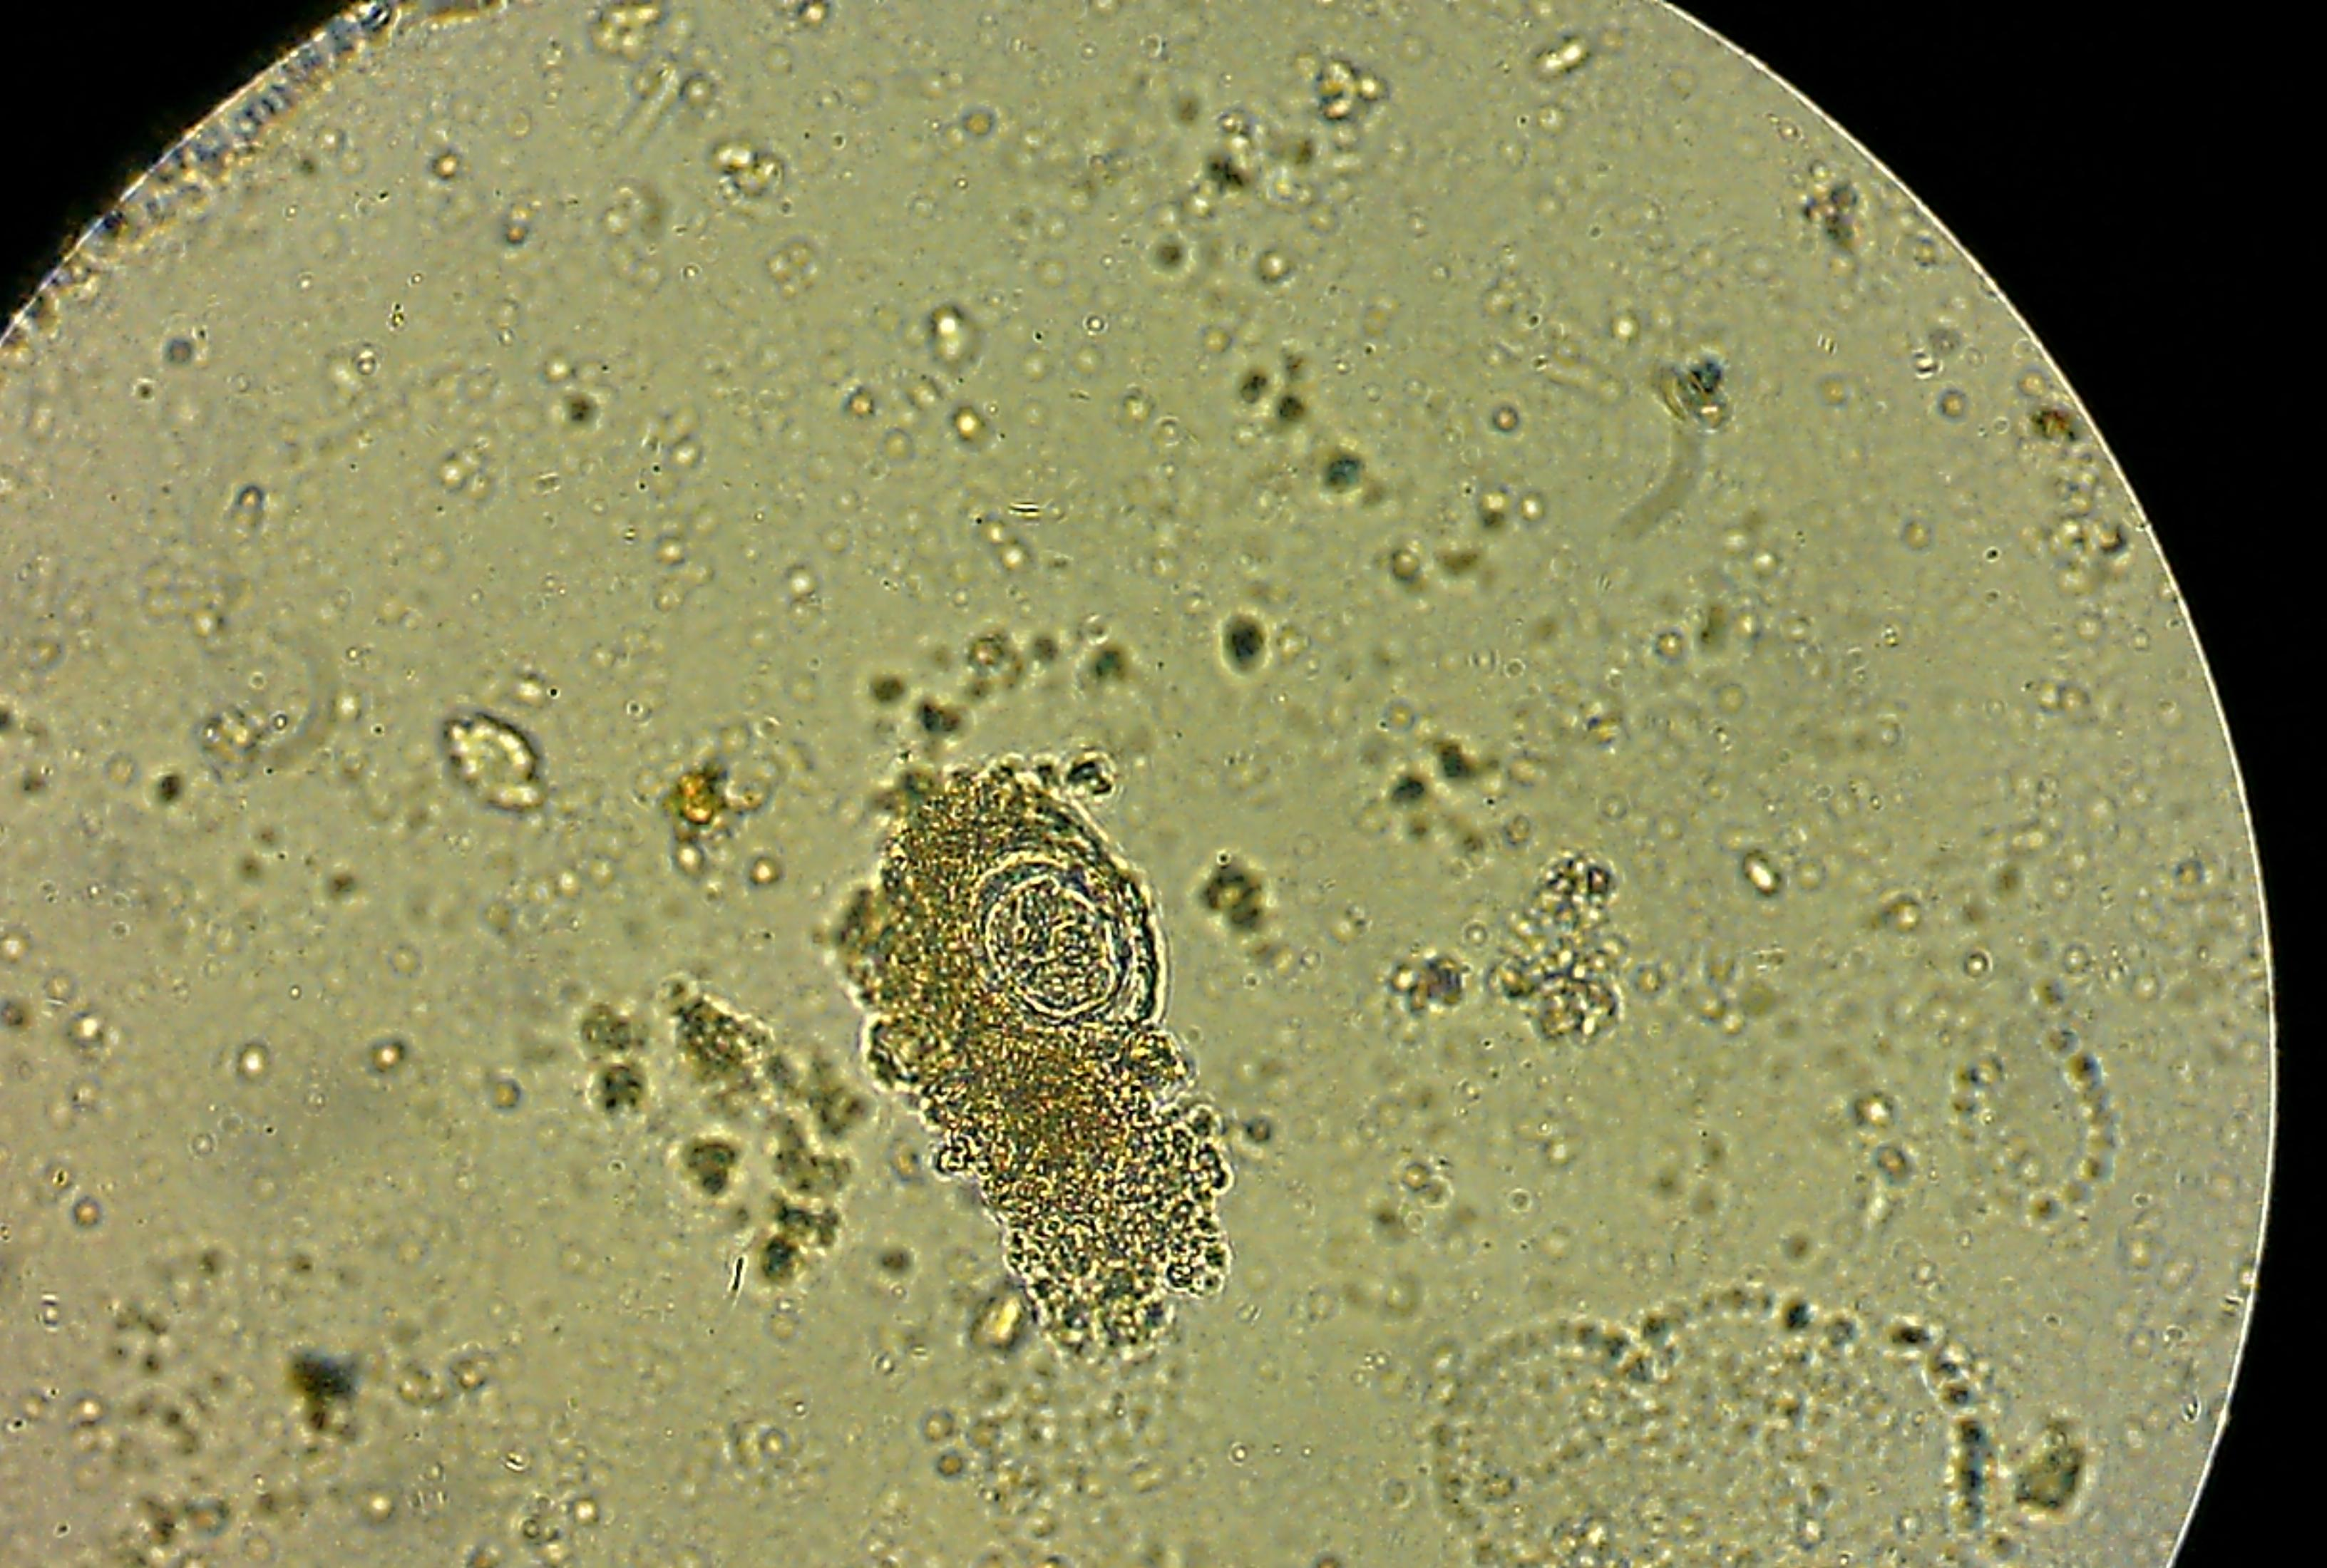Hymenolepsis nana: (943, 824, 1172, 1048)
